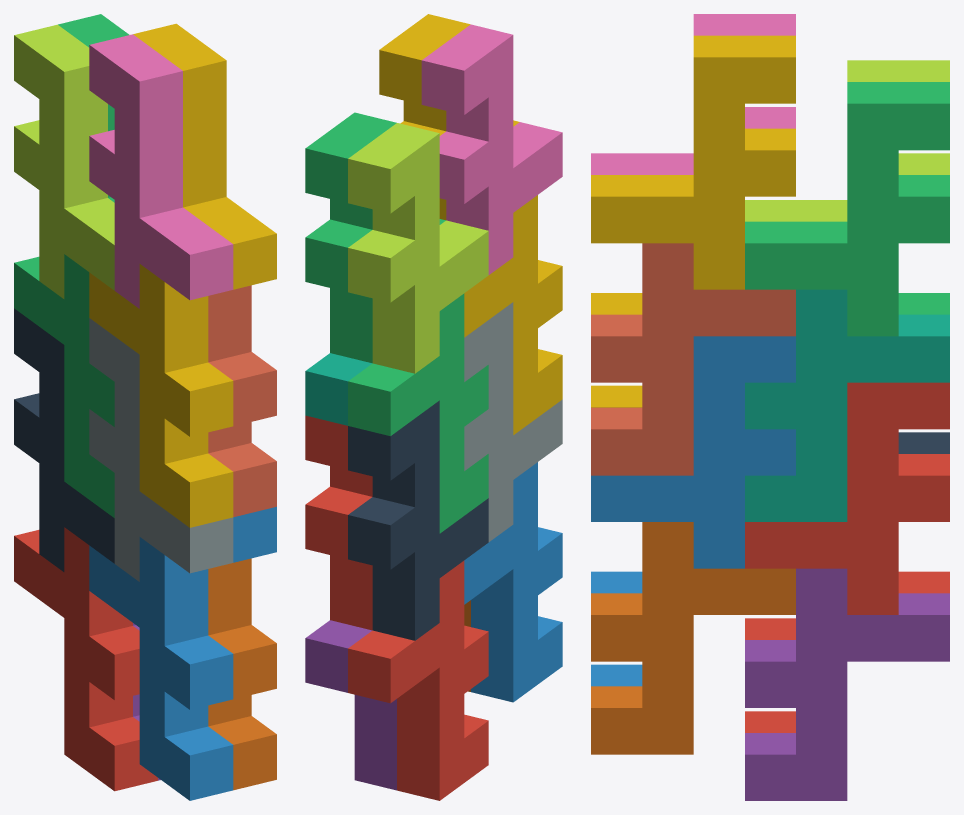
Rendered from tiling.obj.
3 renders of one model, left to right at view 1: azimuth 30°, elevation 25°; view 2: azimuth 150°, elevation 25°; view 3: azimuth 270°, elevation 25°, orthographic. The views are drawn at different scales.
Parts seen in each view (by area): view 1: copy_2_domain_4, copy_1_domain_4, copy_1_domain_2, copy_2_domain_3, copy_1_domain_1, copy_2_domain_2, copy_2_domain_8, copy_1_domain_3, copy_2_domain_1, copy_1_domain_6, copy_1_domain_8, copy_2_domain_6 (+1 smaller); view 2: copy_2_domain_3, copy_2_domain_4, copy_2_domain_1, copy_1_domain_1, copy_1_domain_2, copy_1_domain_3, copy_2_domain_7, copy_1_domain_4, copy_2_domain_2, copy_2_domain_5, copy_1_domain_5, copy_2_domain_8 (+1 smaller); view 3: copy_2_domain_7, copy_2_domain_8, copy_1_domain_5, copy_1_domain_8, copy_1_domain_6, copy_1_domain_7, copy_2_domain_5, copy_2_domain_6, copy_2_domain_3, copy_2_domain_4, copy_1_domain_1, copy_1_domain_2 (+3 smaller).
Part boxes in pixels (box(x1,y1,x2,y2)): copy_2_domain_4: box(89, 34, 233, 308); copy_1_domain_4: box(89, 264, 233, 527); copy_1_domain_2: box(89, 537, 233, 800); copy_2_domain_3: box(14, 24, 114, 298); copy_1_domain_1: box(14, 527, 157, 791); copy_2_domain_2: box(89, 318, 233, 581); copy_2_domain_8: box(133, 23, 276, 289); copy_1_domain_3: box(14, 254, 114, 517); copy_2_domain_1: box(14, 308, 114, 571); copy_1_domain_6: box(208, 558, 276, 790); copy_1_domain_8: box(208, 285, 276, 517); copy_2_domain_6: box(233, 506, 276, 562); copy_2_domain_3: box(348, 123, 488, 373); copy_2_domain_4: box(421, 24, 562, 274); copy_2_domain_1: box(348, 400, 488, 640); copy_1_domain_1: box(348, 560, 488, 800); copy_1_domain_2: box(464, 462, 562, 702); copy_1_domain_3: box(348, 293, 488, 533); copy_2_domain_7: box(305, 112, 445, 363); copy_1_domain_4: box(464, 195, 562, 434); copy_2_domain_2: box(464, 302, 562, 541); copy_2_domain_5: box(305, 415, 372, 630); copy_1_domain_5: box(305, 620, 396, 790); copy_2_domain_8: box(379, 14, 519, 220); copy_2_domain_7: box(745, 82, 949, 336); copy_2_domain_8: box(591, 35, 795, 289); copy_1_domain_5: box(745, 568, 949, 800); copy_1_domain_8: box(591, 243, 795, 475); copy_1_domain_6: box(591, 522, 795, 754); copy_1_domain_7: box(745, 289, 949, 521); copy_2_domain_5: box(745, 382, 949, 614); copy_2_domain_6: box(591, 336, 795, 568); copy_2_domain_3: box(745, 60, 949, 221); copy_2_domain_4: box(591, 14, 795, 174); copy_1_domain_1: box(745, 571, 949, 732); copy_1_domain_2: box(591, 571, 642, 686).
Size of the model in its own units: 2 by 16 by 7.
